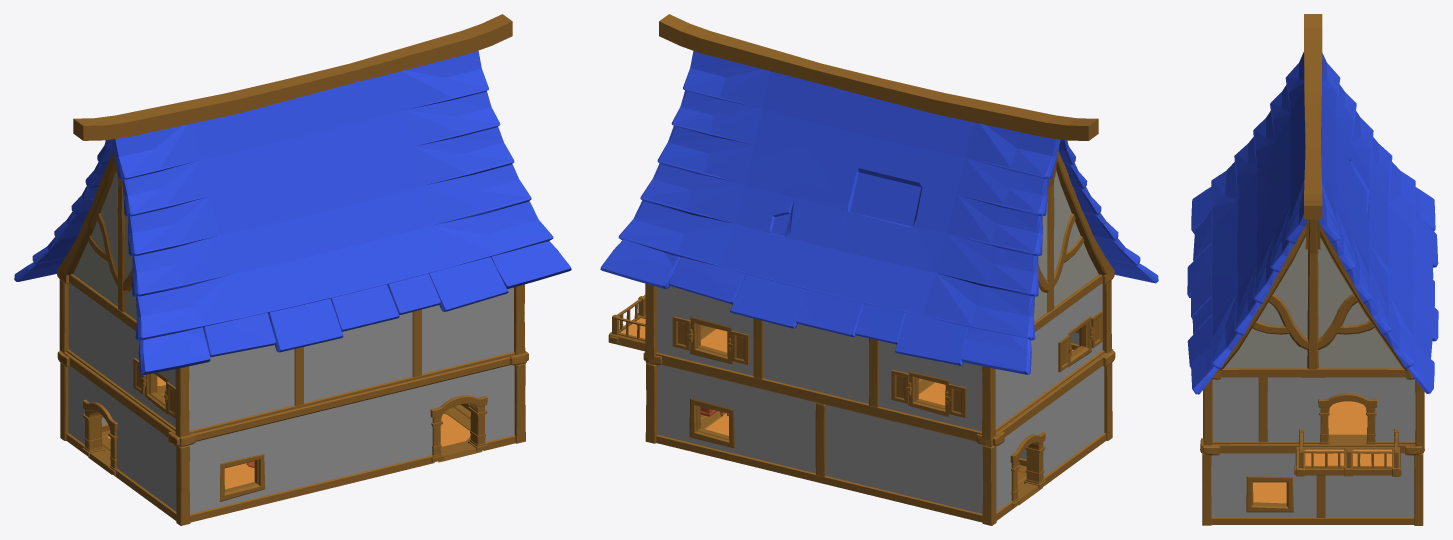
Rendered from hous222.fbx.
3 views of the same model, side by side, from view 1: azimuth 30°, elevation 25°; view 2: azimuth 150°, elevation 25°; view 3: azimuth 270°, elevation 25° (orthographic). The views are drawn at different scales.
Visible parts, largest first — view 1: SM_BG_FMS_Small_Roof_A.mo, SM_BG_FH_Small_1_D.mo, SM_BG_FH_Small_2_A.mo; view 2: SM_BG_FMS_Small_Roof_A.mo, SM_BG_FH_Small_1_D.mo, SM_BG_FH_Small_2_A.mo; view 3: SM_BG_FMS_Small_Roof_A.mo, SM_BG_FH_Small_2_A.mo, SM_BG_FH_Small_1_D.mo.
Boxes of the visible parts, left/top/right/bottom form: SM_BG_FMS_Small_Roof_A.mo: left=14, top=14, right=571, bottom=374; SM_BG_FH_Small_1_D.mo: left=57, top=350, right=528, bottom=525; SM_BG_FH_Small_2_A.mo: left=57, top=269, right=525, bottom=437; SM_BG_FMS_Small_Roof_A.mo: left=600, top=14, right=1158, bottom=374; SM_BG_FH_Small_1_D.mo: left=643, top=326, right=1115, bottom=525; SM_BG_FH_Small_2_A.mo: left=608, top=270, right=1114, bottom=440; SM_BG_FMS_Small_Roof_A.mo: left=1187, top=14, right=1438, bottom=394; SM_BG_FH_Small_2_A.mo: left=1203, top=368, right=1424, bottom=476; SM_BG_FH_Small_1_D.mo: left=1200, top=389, right=1424, bottom=525.
Size of the model in its own units: 1737 by 1421 by 941.
